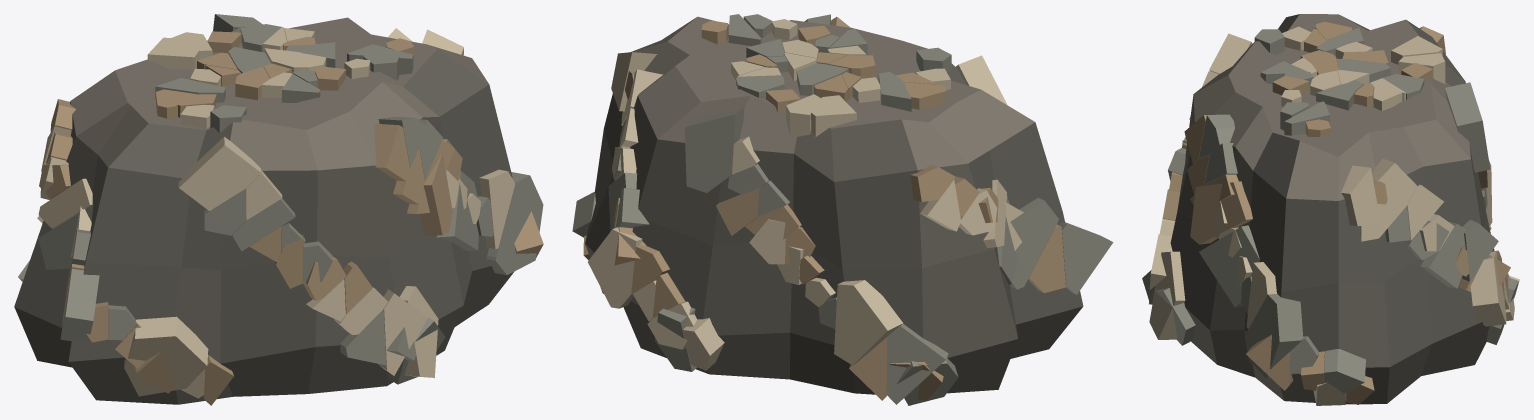
The model's file is breccia-outcrop.glb.
The picture shows the model from 3 angles, left to right: view 1: azimuth 30°, elevation 25°; view 2: azimuth 150°, elevation 25°; view 3: azimuth 270°, elevation 25°; orthographic projection. The views are drawn at different scales.
Parts seen in each view (by area): view 1: coherent_angular_matrix_outcrop, embedded_angular_surface_fragments, embedded_angular_surface_fragments.002, embedded_angular_surface_fragments.001, embedded_angular_crown_fragments.002, embedded_angular_crown_fragments, embedded_angular_crown_fragments.001; view 2: coherent_angular_matrix_outcrop, embedded_angular_surface_fragments, embedded_angular_surface_fragments.002, embedded_angular_surface_fragments.001, embedded_angular_crown_fragments.002, embedded_angular_crown_fragments, embedded_angular_crown_fragments.001; view 3: coherent_angular_matrix_outcrop, embedded_angular_surface_fragments.002, embedded_angular_surface_fragments, embedded_angular_surface_fragments.001, embedded_angular_crown_fragments.002, embedded_angular_crown_fragments, embedded_angular_crown_fragments.001.
Boxes of the visible parts, left/top/right/bottom form: coherent_angular_matrix_outcrop: left=14, top=17, right=513, bottom=404; embedded_angular_surface_fragments: left=37, top=28, right=515, bottom=398; embedded_angular_surface_fragments.002: left=18, top=14, right=543, bottom=384; embedded_angular_surface_fragments.001: left=39, top=99, right=543, bottom=405; embedded_angular_crown_fragments.002: left=155, top=24, right=413, bottom=133; embedded_angular_crown_fragments: left=147, top=27, right=370, bottom=128; embedded_angular_crown_fragments.001: left=155, top=31, right=414, bottom=118; coherent_angular_matrix_outcrop: left=585, top=16, right=1083, bottom=394; embedded_angular_surface_fragments: left=588, top=52, right=1023, bottom=370; embedded_angular_surface_fragments.002: left=572, top=14, right=1113, bottom=405; embedded_angular_surface_fragments.001: left=583, top=17, right=1065, bottom=400; embedded_angular_crown_fragments.002: left=728, top=14, right=951, bottom=111; embedded_angular_crown_fragments: left=731, top=19, right=950, bottom=136; embedded_angular_crown_fragments.001: left=701, top=20, right=945, bottom=112; coherent_angular_matrix_outcrop: left=1170, top=14, right=1494, bottom=404; embedded_angular_surface_fragments.002: left=1142, top=82, right=1518, bottom=393; embedded_angular_surface_fragments: left=1149, top=33, right=1519, bottom=405; embedded_angular_surface_fragments.001: left=1162, top=26, right=1510, bottom=404; embedded_angular_crown_fragments.002: left=1254, top=28, right=1424, bottom=135; embedded_angular_crown_fragments: left=1281, top=26, right=1445, bottom=110; embedded_angular_crown_fragments.001: left=1272, top=21, right=1432, bottom=136.
Bounding box in the file's own units: 3.68 × 1.91 × 2.59.
